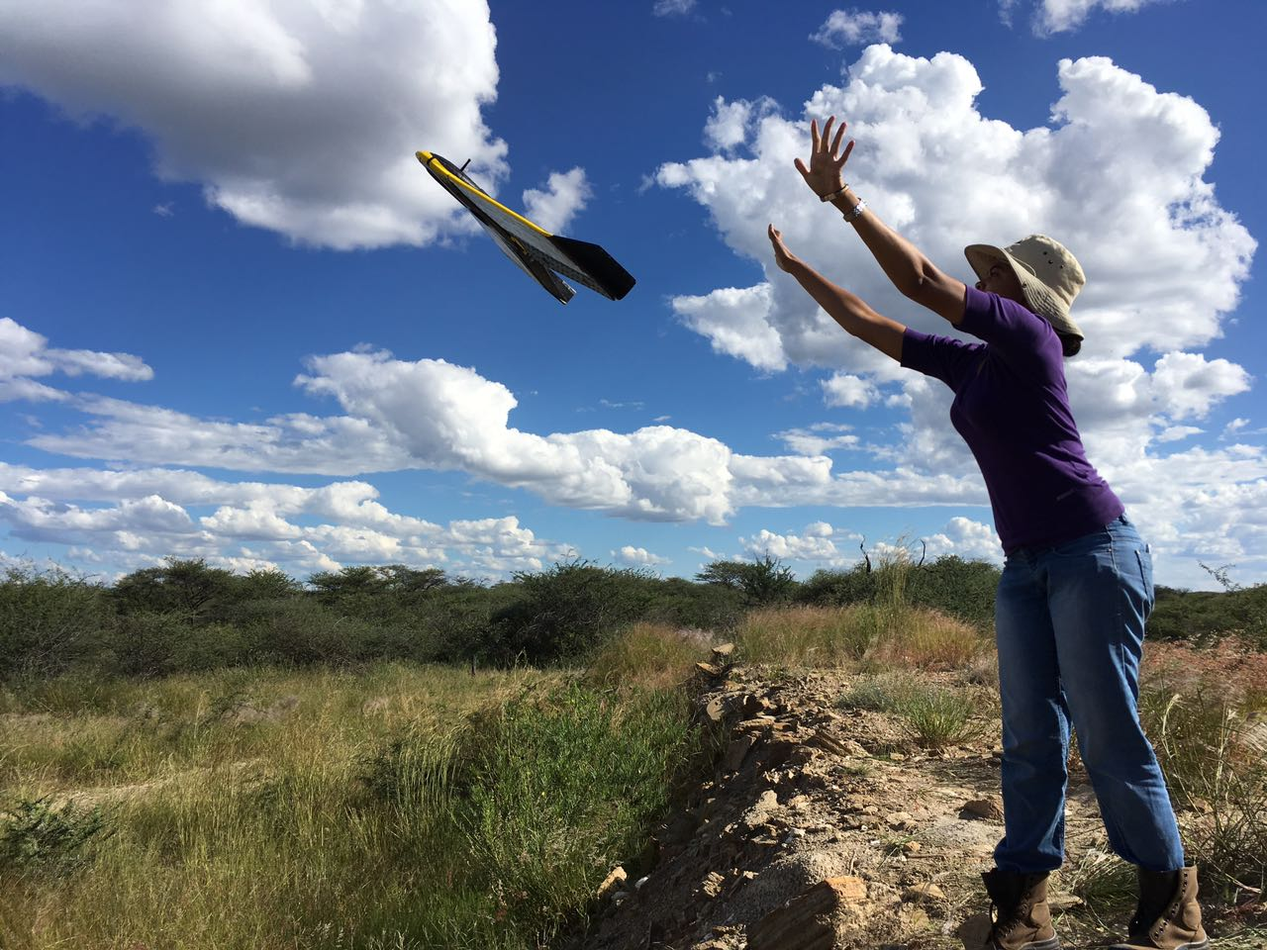drone: (414, 148, 621, 303)
